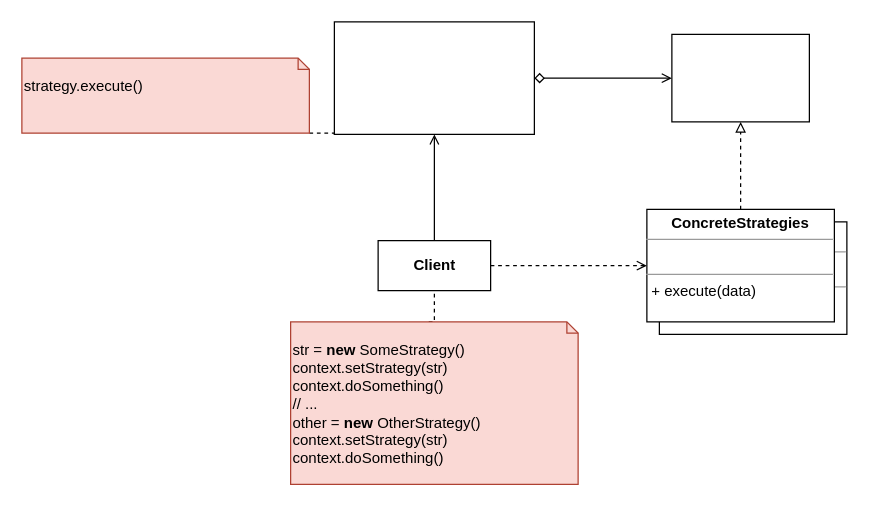
Image size: 869x506. Some labels were removed from this diagram. The shapes that lost their labels are listed below. From the top down, each one's centre as x and y in pixels, then its label:
the point at 433,77: Context - strategy + setStrategy(strategy) + doSomething()
the point at 740,77: <<Interface>> Strategy + execute(data)
